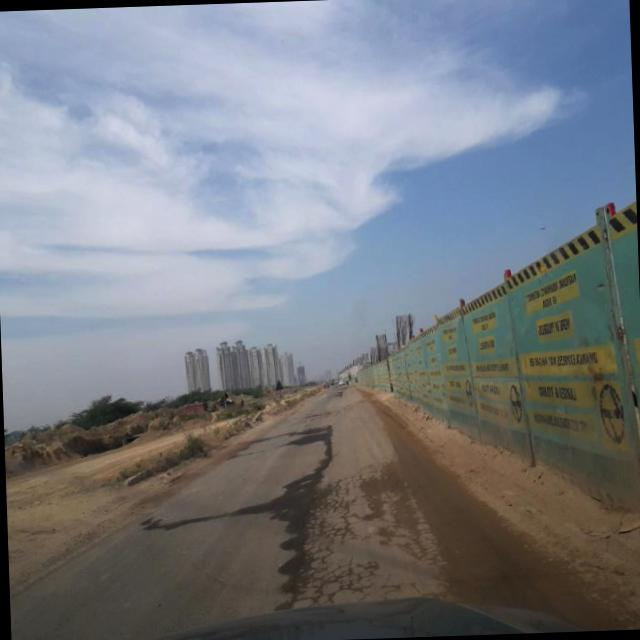crack: (284, 441, 432, 602), (272, 422, 344, 607)
